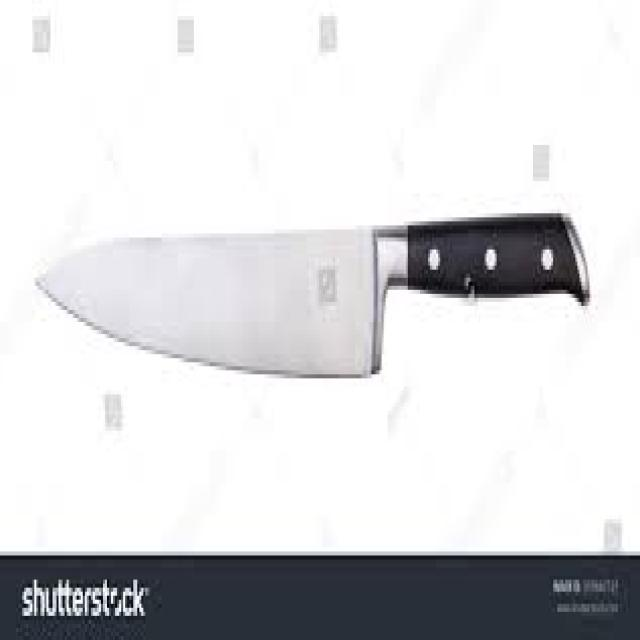Knife: (34, 210, 590, 378)
